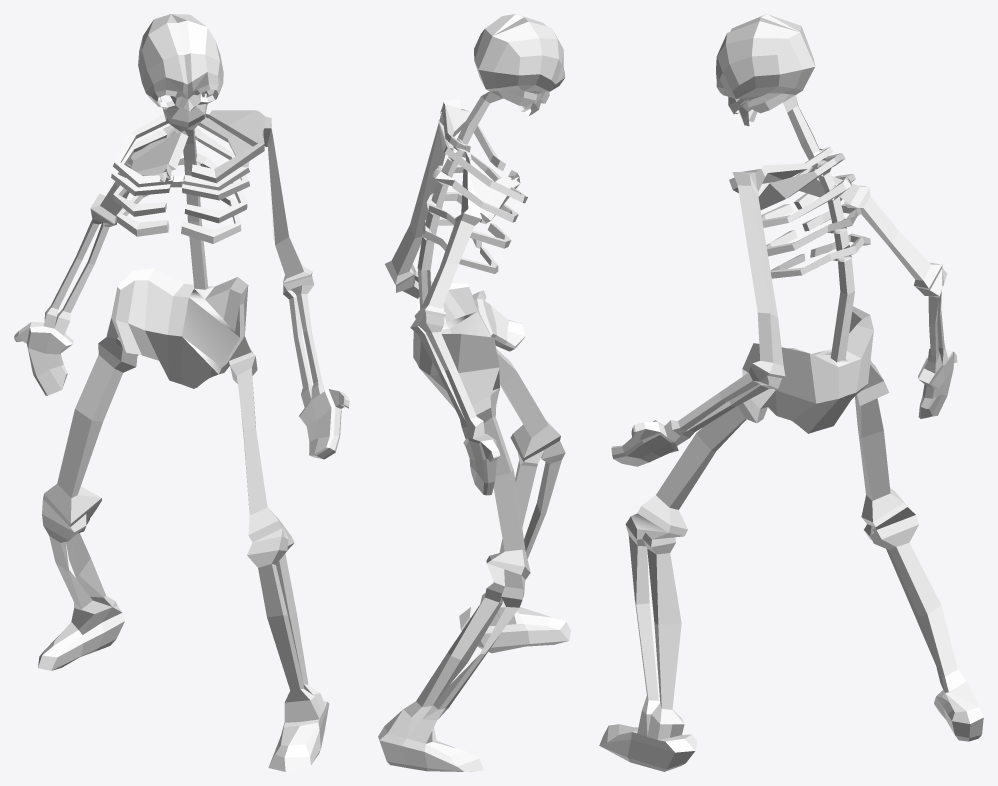
The model's file is SkeletonIdle(95).obj.
3 views of the same model, side by side, from view 1: azimuth 30°, elevation 25°; view 2: azimuth 150°, elevation 25°; view 3: azimuth 270°, elevation 25° (orthographic). The views are drawn at different scales.
Visible parts, largest first — view 1: Object002; view 2: Object002; view 3: Object002.
Boxes of the visible parts, x1=… form: Object002: x1=14, y1=14, x2=349, y2=771; Object002: x1=378, y1=14, x2=570, y2=771; Object002: x1=599, y1=14, x2=983, y2=771.
Bounding box in the file's own units: 350 × 1129 × 555.
